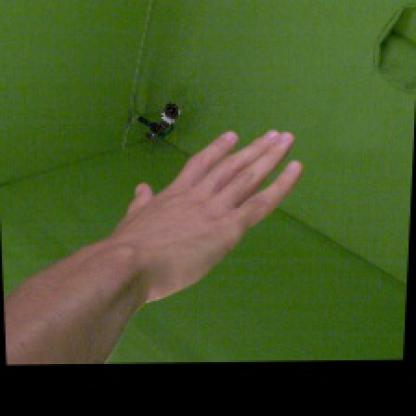Hand: (111, 130, 303, 293)
